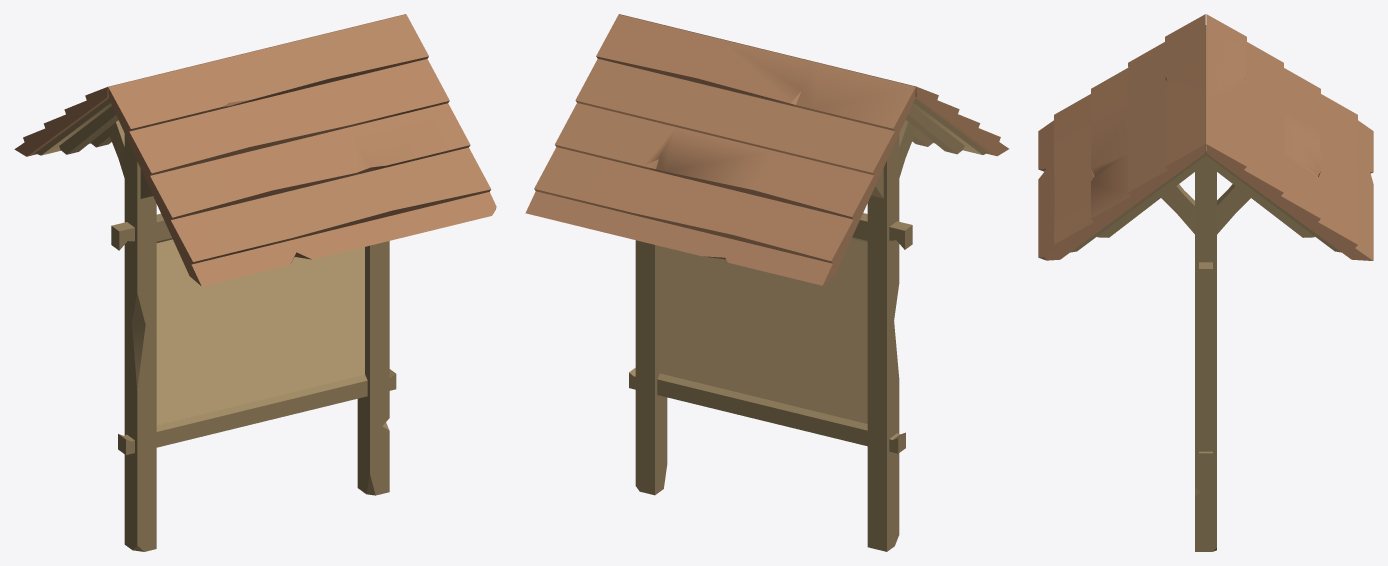
The model's file is Info_Board.glb.
3 renders of one model, left to right at view 1: azimuth 30°, elevation 25°; view 2: azimuth 150°, elevation 25°; view 3: azimuth 270°, elevation 25°, orthographic. The views are drawn at different scales.
Parts seen in each view (by area): view 1: ParkInfoBoard; view 2: ParkInfoBoard; view 3: ParkInfoBoard.
Part boxes in pixels (left/top/right/bottom): ParkInfoBoard: left=14, top=14, right=496, bottom=551; ParkInfoBoard: left=525, top=14, right=1008, bottom=551; ParkInfoBoard: left=1038, top=14, right=1373, bottom=551.
Bounding box in the file's own units: 1.11 × 1.66 × 1.21.
